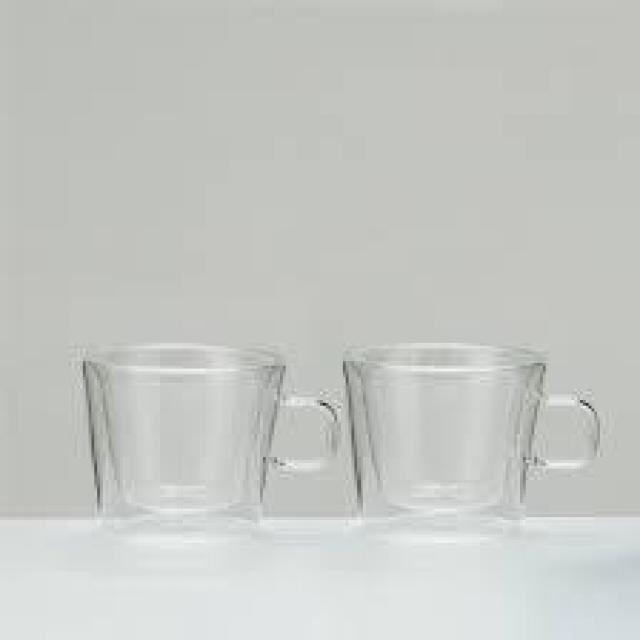glass: (78, 342, 342, 524)
